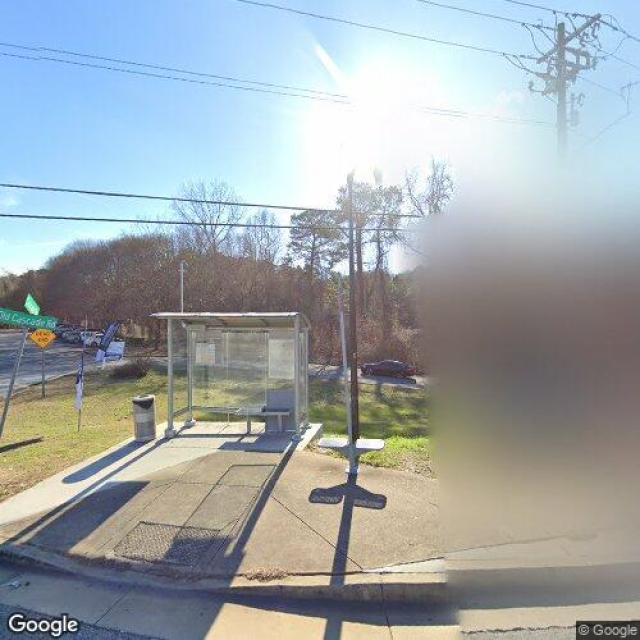seating: (229, 406, 291, 436)
shelter: (148, 310, 312, 445)
trash_can: (132, 394, 156, 442)
